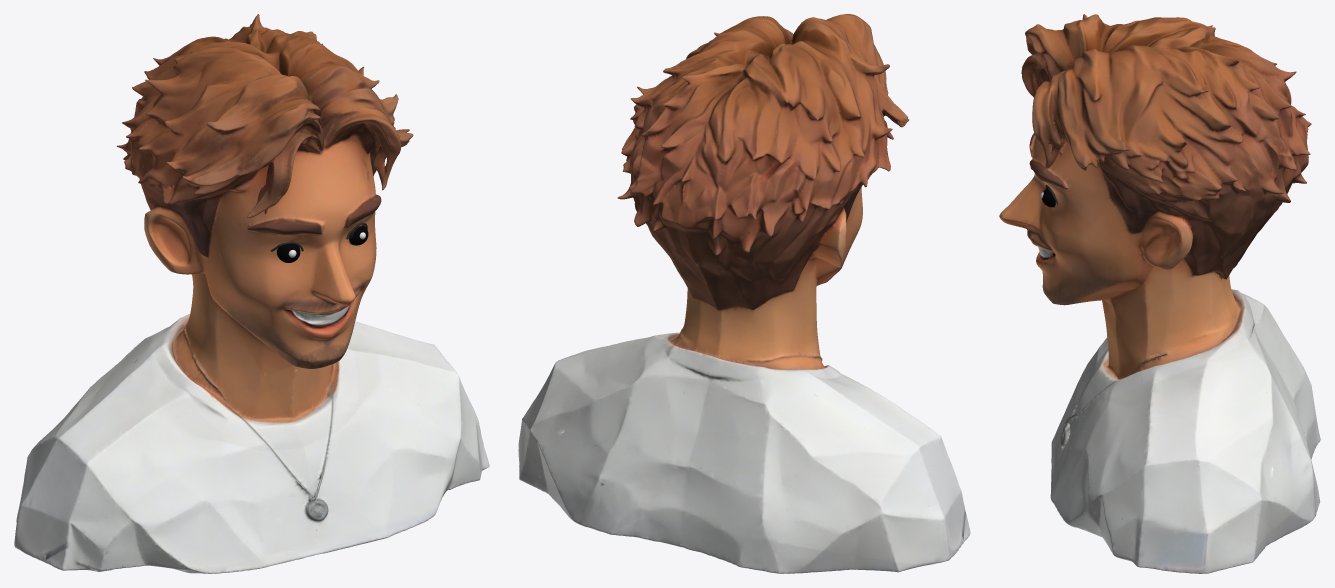
File: character.glb
3 renders of one model, left to right at view 1: azimuth 30°, elevation 25°; view 2: azimuth 150°, elevation 25°; view 3: azimuth 270°, elevation 25°, orthographic. The views are drawn at different scales.
Parts seen in each view (by area): view 1: Mesh_0; view 2: Mesh_0; view 3: Mesh_0.
Boxes of the visible parts, <box> form: Mesh_0: <box>14,14,489,573</box>; Mesh_0: <box>518,14,970,573</box>; Mesh_0: <box>999,14,1320,573</box>.
Bounding box in the file's own units: 2 × 1.99 × 1.32.
7 materials, 1 textured.
